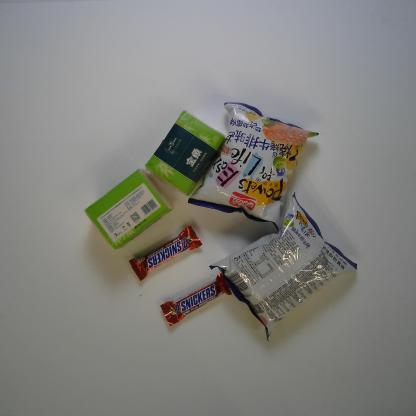Chocolate: (158, 271, 235, 328), (128, 223, 203, 281)
Puffed Food: (208, 190, 361, 344), (186, 100, 320, 235)
Tissue: (144, 107, 227, 198), (83, 168, 174, 251)
